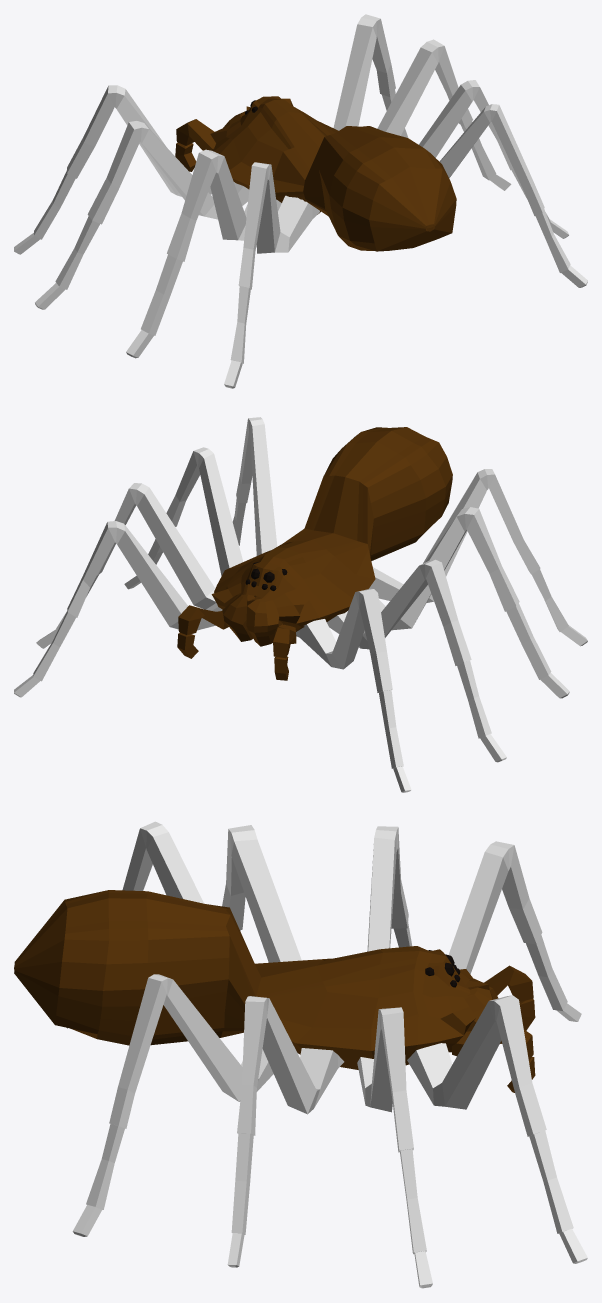
The model's file is wolf spider2b.fbx.
3 views of the same model, one above another, from view 1: azimuth 30°, elevation 25°; view 2: azimuth 150°, elevation 25°; view 3: azimuth 270°, elevation 25° (orthographic). The views are drawn at different scales.
Parts seen in each view (by area): view 1: Cube.008, Cube, Cube.002; view 2: Cube.008, Cube, Cube.002; view 3: Cube.008, Cube, Cube.002.
Boxes of the visible parts, bbox=[...] form: Cube.008: bbox=[14, 14, 587, 388]; Cube: bbox=[210, 96, 456, 251]; Cube.002: bbox=[175, 98, 292, 171]; Cube.008: bbox=[14, 417, 587, 792]; Cube: bbox=[211, 427, 452, 646]; Cube.002: bbox=[177, 605, 296, 680]; Cube.008: bbox=[67, 821, 587, 1288]; Cube: bbox=[14, 890, 498, 1069]; Cube.002: bbox=[452, 965, 535, 1092].
Size of the model in its own units: 732 by 284 by 592.
